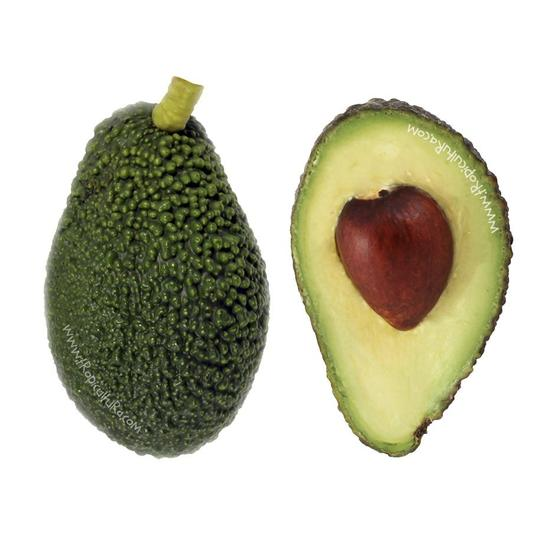avocado: (39, 85, 271, 460)
